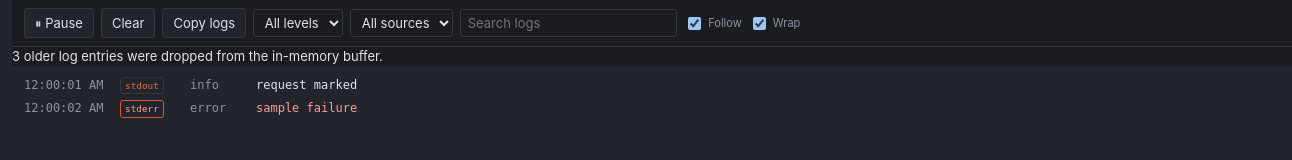
Test: PluginLogConsole › pauses, copies visible output, toggles wrapping, and clears logs separately
Check: the text "request marked" is shown, box [256,78,357,92]
Click the button "⏸ Pause": coordinates (59, 23) [24,8,94,38]
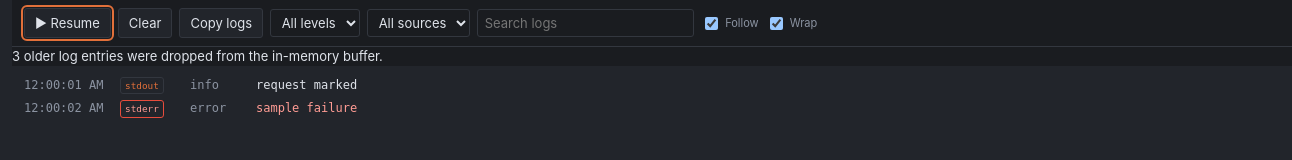
Check: the button "▶ Resume" is shown, box [24,8,111,38]
Click the button "Copy logs": coordinates (221, 23) [179,8,263,38]
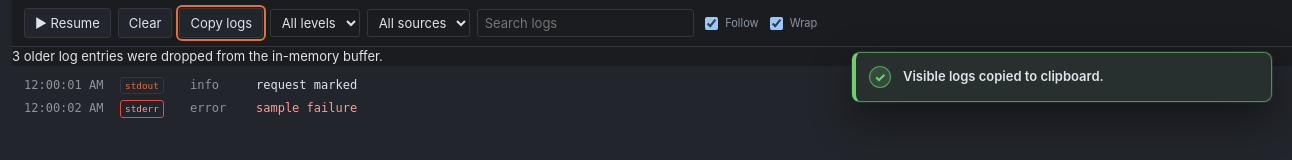
Check: the text "Visible logs copied to clipboard." is shown, box [903,68,1104,84]
Click the checkbox labelled "Wrap": coordinates (776, 23) [770,16,783,30]
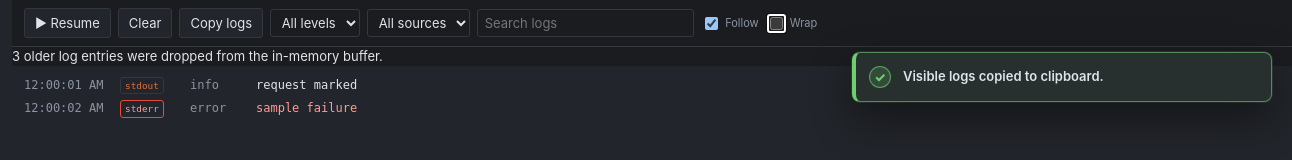
Check: the checkbox labelled "Wrap" is not checked, box [770,16,783,30]
Click the button "Clear": coordinates (145, 23) [118,8,172,38]
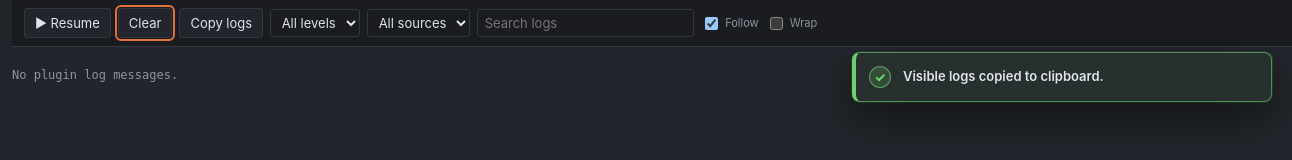
Check: the text "No plugin log messages." is shown, box [12,68,178,82]
